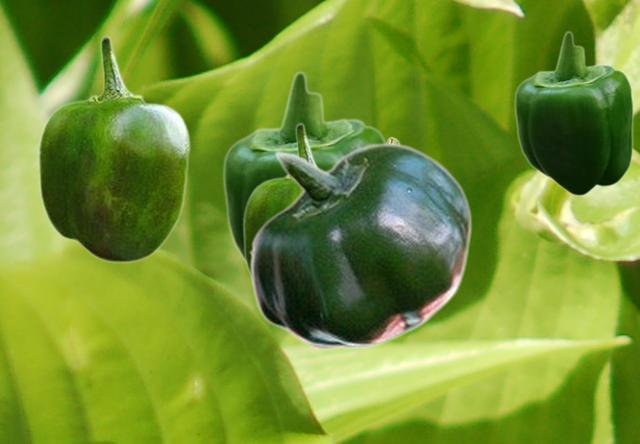bell_pepper: (248, 142, 471, 348), (37, 35, 190, 263), (221, 70, 386, 263), (513, 30, 633, 196), (242, 122, 316, 278)
